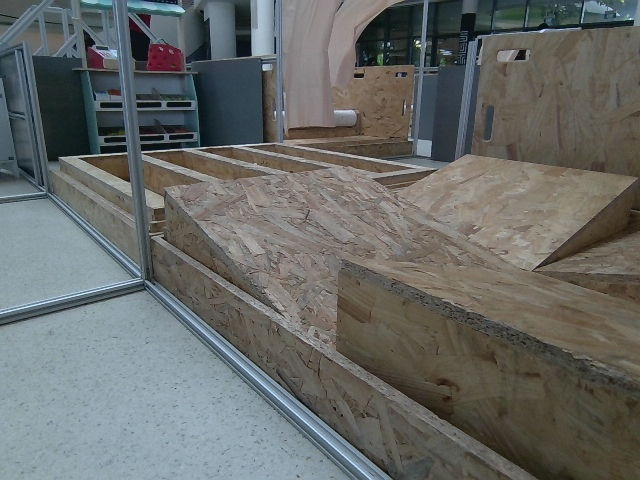curtain: (243, 0, 435, 82)
